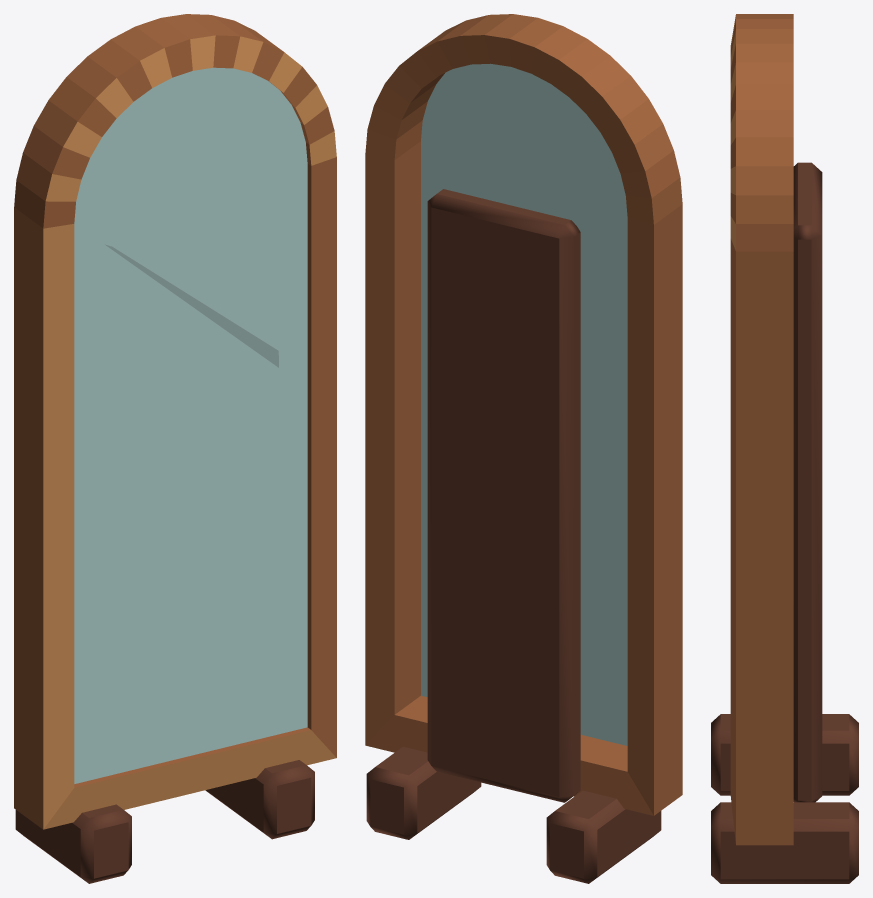
Rendered from mirror.glb.
The picture shows the model from 3 angles, left to right: view 1: azimuth 30°, elevation 25°; view 2: azimuth 150°, elevation 25°; view 3: azimuth 270°, elevation 25°; orthographic projection.
Parts seen in each view (by area): view 1: Glass, Frame; view 2: Frame, Glass; view 3: Frame.
Boxes of the visible parts, left/top/right/bottom form: Glass: left=74, top=67, right=307, bottom=783; Frame: left=14, top=14, right=336, bottom=883; Frame: left=365, top=14, right=682, bottom=883; Glass: left=421, top=63, right=627, bottom=745; Frame: left=711, top=14, right=858, bottom=883.
Bounding box in the file's own units: 0.69 × 1.83 × 0.305.
